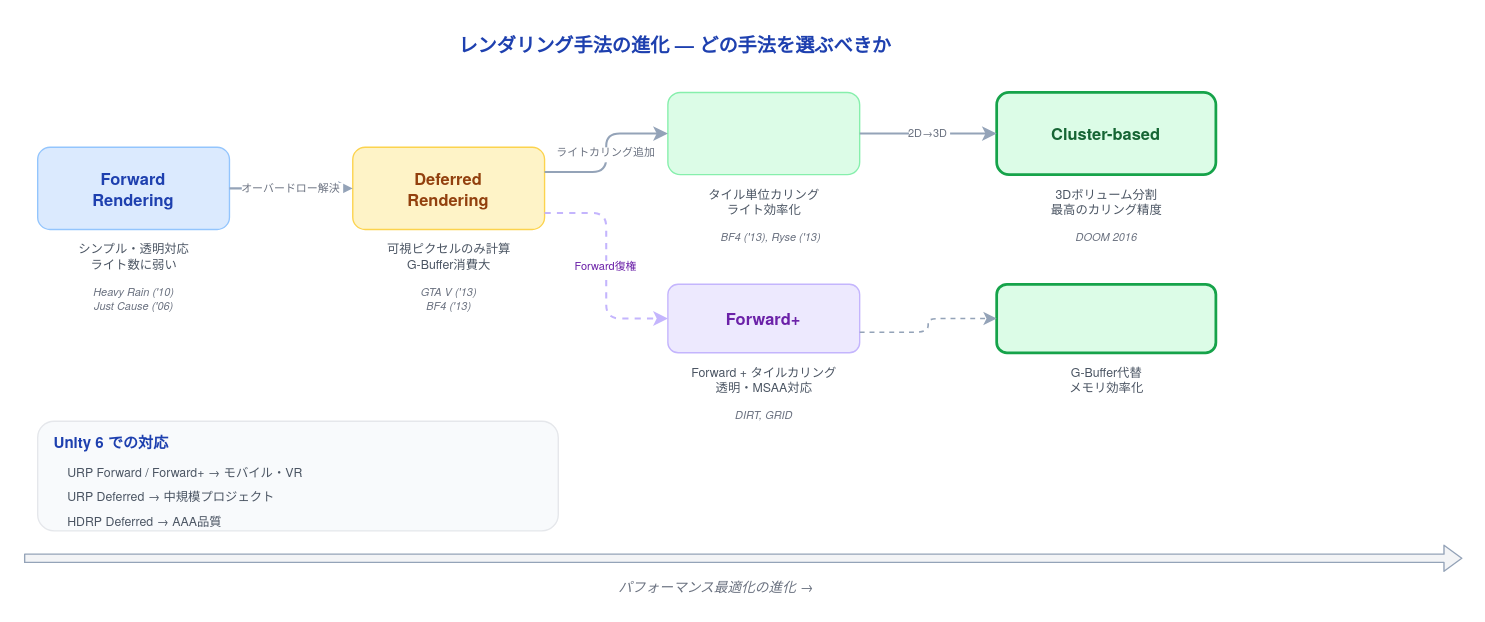
Some shapes in this 1485 by 622 pixel diagram are drawn without their labels. The centre of each missing label's shape, as x and y in pixels:
"Tile-based Deferred" goes at (763,133).
"Visibility Buffer" goes at (1106,317).
